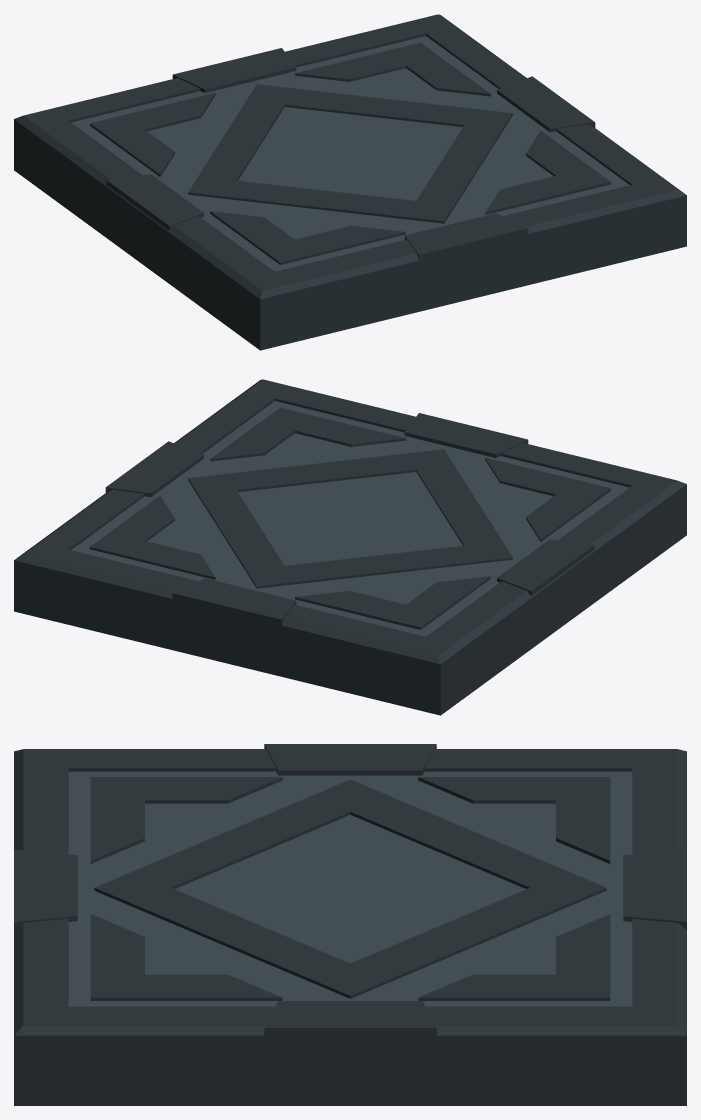
File: Tile 01.FBX
The picture shows the model from 3 angles, top to bottom: view 1: azimuth 30°, elevation 25°; view 2: azimuth 150°, elevation 25°; view 3: azimuth 270°, elevation 25°; orthographic projection. The views are drawn at different scales.
Visible parts, largest first — view 1: Tile 01; view 2: Tile 01; view 3: Tile 01.
Boxes of the visible parts, bbox=[...] form: Tile 01: bbox=[14, 14, 686, 350]; Tile 01: bbox=[14, 379, 686, 715]; Tile 01: bbox=[14, 744, 686, 1105].
Size of the model in its own units: 400 by 51.12 by 400.
1 material, 1 textured.
